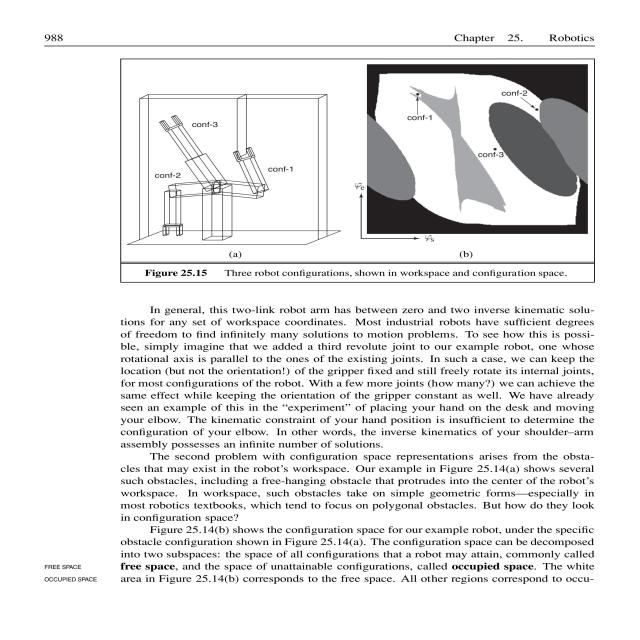diagram: (104, 50, 604, 296)
